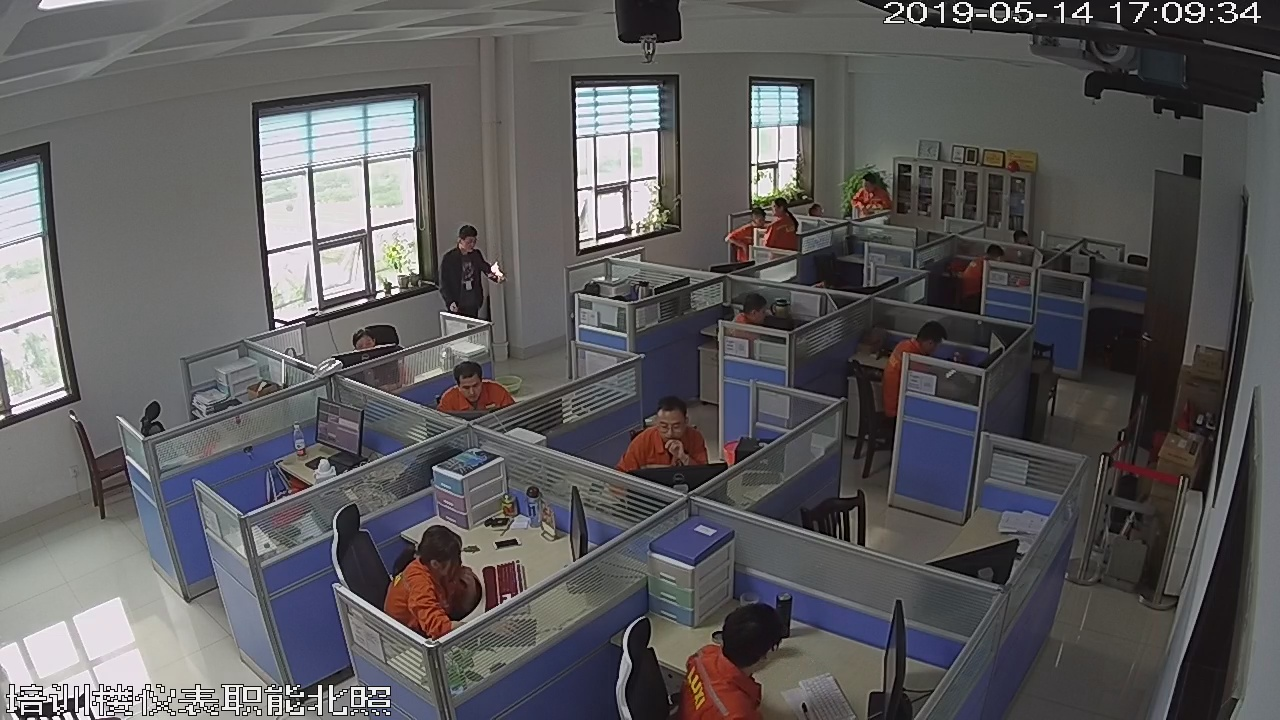fire: (489, 258, 504, 280)
